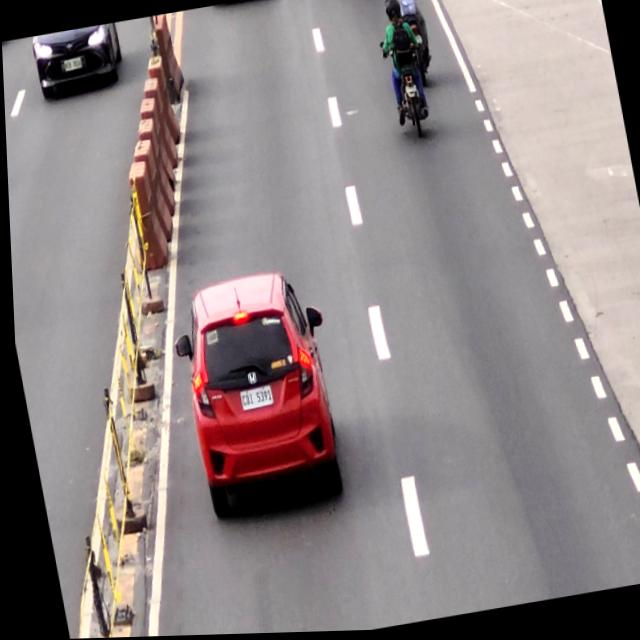Car: (163, 267, 350, 522)
License-Plate: (234, 388, 270, 412)
Motorcycle: (380, 33, 435, 145), (389, 0, 435, 88)
